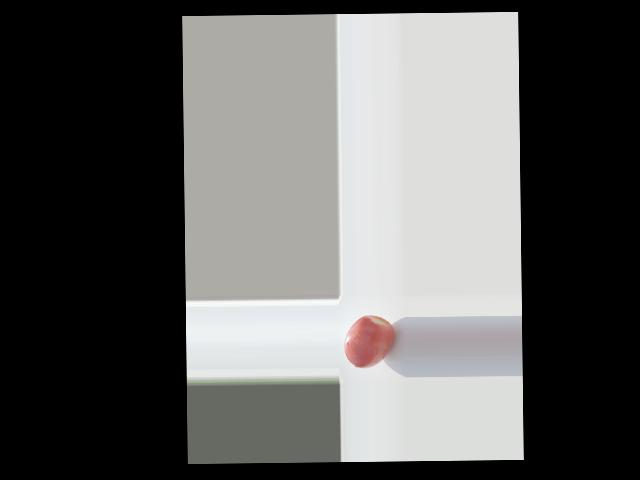tomato: (344, 315, 394, 368)
